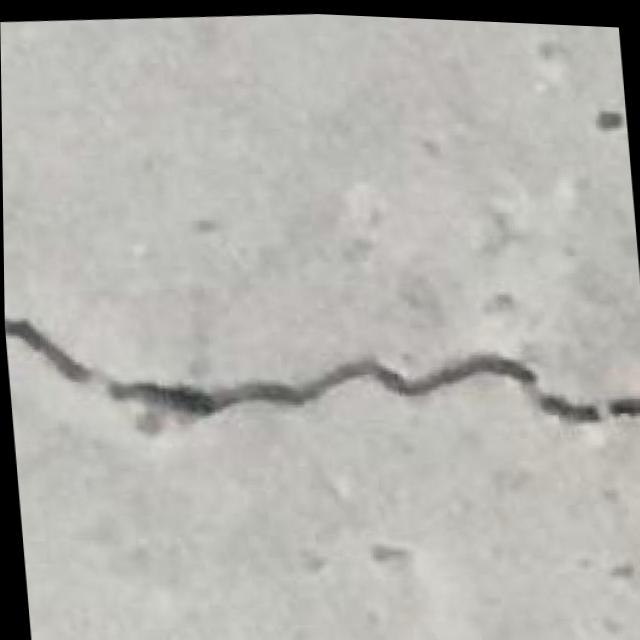Crack: (3, 264, 640, 477)
